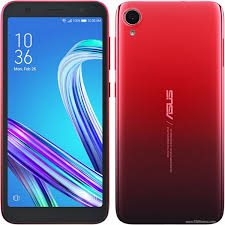asus: (1, 1, 113, 224), (115, 1, 224, 225)
